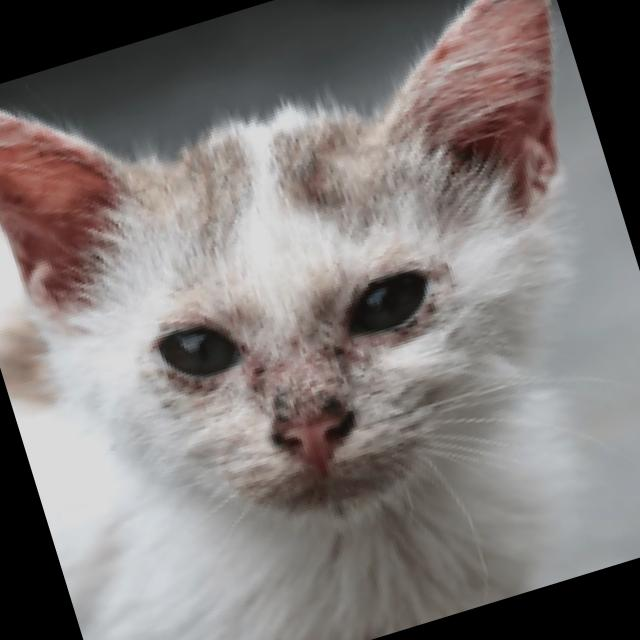Mange: (225, 331, 358, 421), (410, 28, 478, 75), (376, 302, 429, 350)
